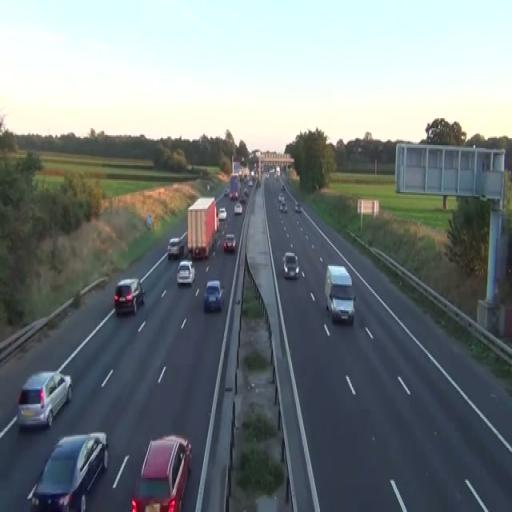Car: (28, 432, 109, 511), (131, 433, 192, 511), (17, 369, 73, 432), (114, 278, 146, 316), (204, 280, 225, 312), (177, 260, 195, 288), (167, 236, 187, 260), (282, 252, 299, 280), (223, 234, 237, 254), (234, 202, 242, 216)
Truck: (186, 197, 218, 260), (324, 264, 356, 325), (230, 175, 240, 200)
